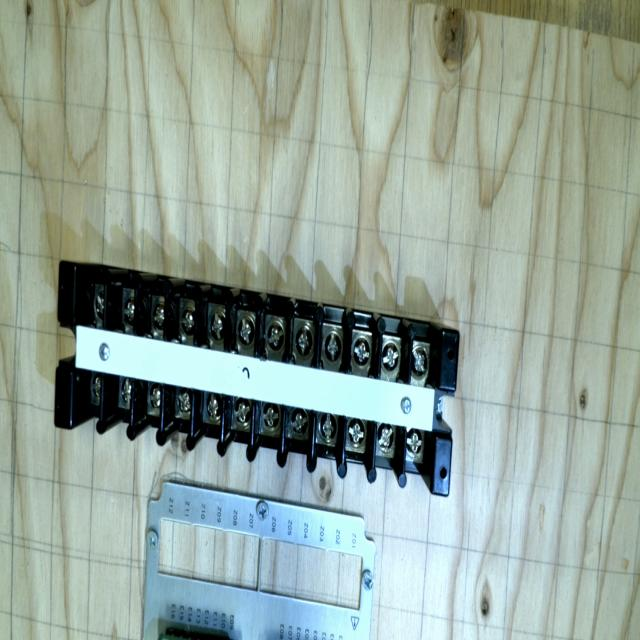Phillips_Block: (31, 261, 476, 496)
